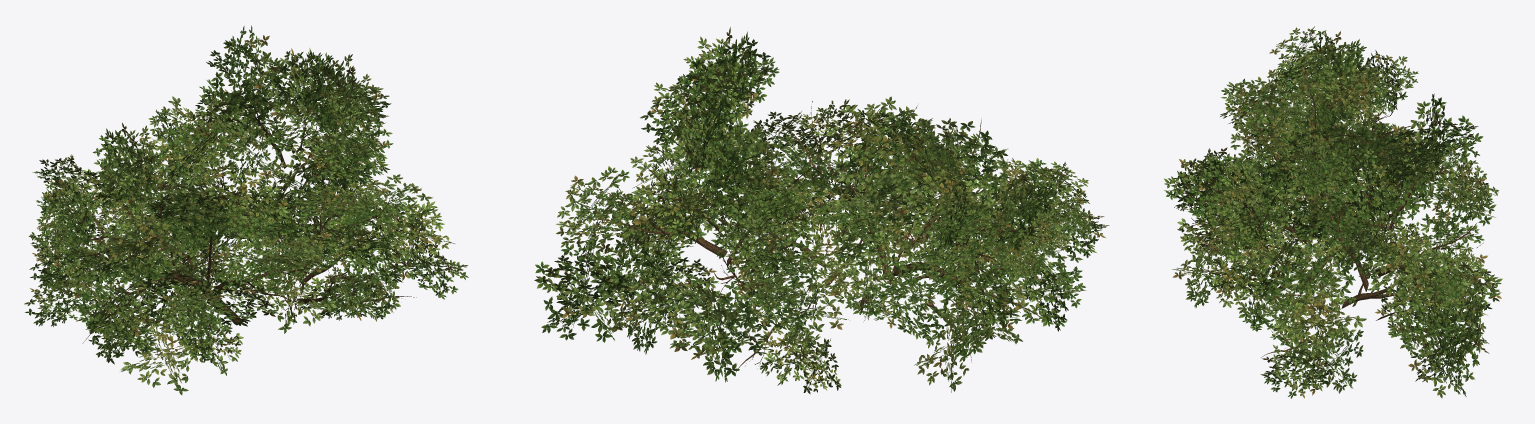
The model's file is bg_anh_foliage_te_t52_sm_old.FBX.
The picture shows the model from 3 angles, left to right: view 1: azimuth 30°, elevation 25°; view 2: azimuth 150°, elevation 25°; view 3: azimuth 270°, elevation 25°; orthographic projection. The views are drawn at different scales.
Visible parts, largest first — view 1: bg_anh_foliage_te_t52_sm_old; view 2: bg_anh_foliage_te_t52_sm_old; view 3: bg_anh_foliage_te_t52_sm_old.
Boxes of the visible parts, box(x1,y1,x2,y2) form: bg_anh_foliage_te_t52_sm_old: box(24, 25, 468, 394); bg_anh_foliage_te_t52_sm_old: box(534, 27, 1109, 394); bg_anh_foliage_te_t52_sm_old: box(1164, 26, 1502, 398).
Size of the model in its own units: 711 by 426 by 510.
